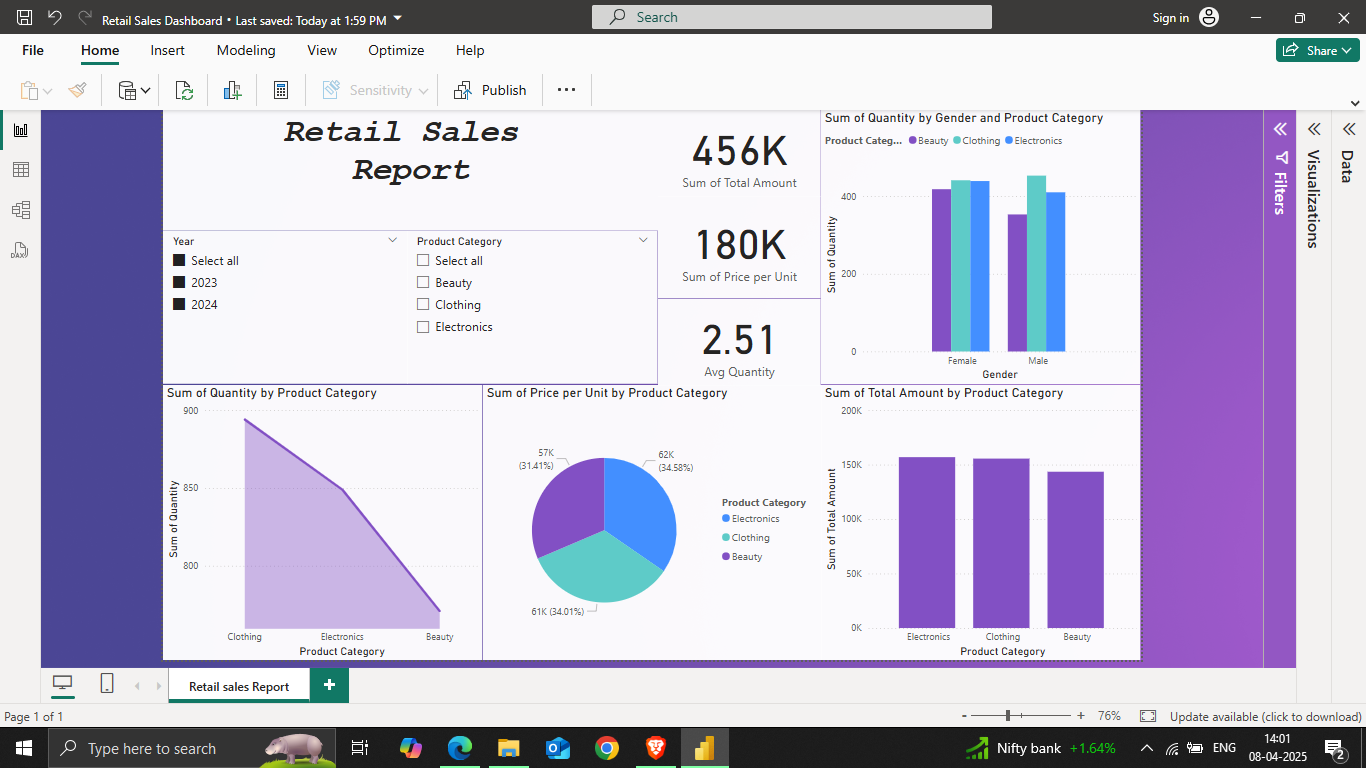

This screenshot's page, from the dashboard's own definition file:
{"tool":"powerbi","page":{"name":"Retail sales Report","canvas":[1280,720],"ordinal":0},"visuals":[{"type":"clusteredColumnChart","fields":{"Category":["retail_sales_dataset.Product Category"],"Y":["Sum(retail_sales_dataset.Total Amount)"]},"box":[861.7,359.5,418.3,361.2],"z":0},{"type":"clusteredColumnChart","fields":{"Category":["retail_sales_dataset.Gender"],"Series":["retail_sales_dataset.Product Category"],"Y":["Sum(retail_sales_dataset.Quantity)"]},"box":[861.7,0,418.3,359.5],"z":1000},{"type":"pieChart","fields":{"Category":["retail_sales_dataset.Product Category"],"Y":["Sum(retail_sales_dataset.Price per Unit)"]},"box":[418.3,359.5,443.5,361.2],"z":2000},{"type":"stackedAreaChart","fields":{"Category":["retail_sales_dataset.Product Category"],"Y":["Sum(retail_sales_dataset.Quantity)"]},"box":[0,359.5,418.3,361.2],"z":3000},{"type":"slicer","fields":{"Values":["retail_sales_dataset.Product Category"]},"box":[319.7,158.4,328.3,200.2],"z":4000},{"type":"card","fields":{"Values":["Sum(retail_sales_dataset.Price per Unit)"]},"box":[648.4,112.5,213.3,134.4],"z":5000},{"type":"card","fields":{"Values":["Sum(retail_sales_dataset.Total Amount)"]},"box":[648.4,0,213.3,112.5],"z":6000},{"type":"card","fields":{"Values":["retail_sales_dataset.Avg Quantity"]},"box":[648.4,246.9,213.3,112.5],"z":7000},{"type":"slicer","fields":{"Values":["retail_sales_dataset.Date.Variation.Date Hierarchy.Year"]},"box":[0,158.4,319.7,200.2],"z":8000},{"type":"textbox","box":[0,0,648,158.4],"z":9000}]}

Visuals, with their boxes on the page's 1280x720 design canvas (x1, y1, x2, y2). These are canvas units, not pixel positions in the 1366x768 screenshot, which may show the page scaled, cropped or inside an application window:
clusteredColumnChart - retail_sales_dataset.Product Category x Sum(retail_sales_dataset.Total Amount): rect(862, 360, 1280, 721)
clusteredColumnChart - retail_sales_dataset.Gender x retail_sales_dataset.Product Category: rect(862, 0, 1280, 360)
pieChart - retail_sales_dataset.Product Category x Sum(retail_sales_dataset.Price per Unit): rect(418, 360, 862, 721)
stackedAreaChart - retail_sales_dataset.Product Category x Sum(retail_sales_dataset.Quantity): rect(0, 360, 418, 721)
slicer - retail_sales_dataset.Product Category: rect(320, 158, 648, 359)
card - Sum(retail_sales_dataset.Price per Unit): rect(648, 112, 862, 247)
card - Sum(retail_sales_dataset.Total Amount): rect(648, 0, 862, 112)
card - retail_sales_dataset.Avg Quantity: rect(648, 247, 862, 359)
slicer - retail_sales_dataset.Date.Variation.Date Hierarchy.Year: rect(0, 158, 320, 359)
textbox: rect(0, 0, 648, 158)
